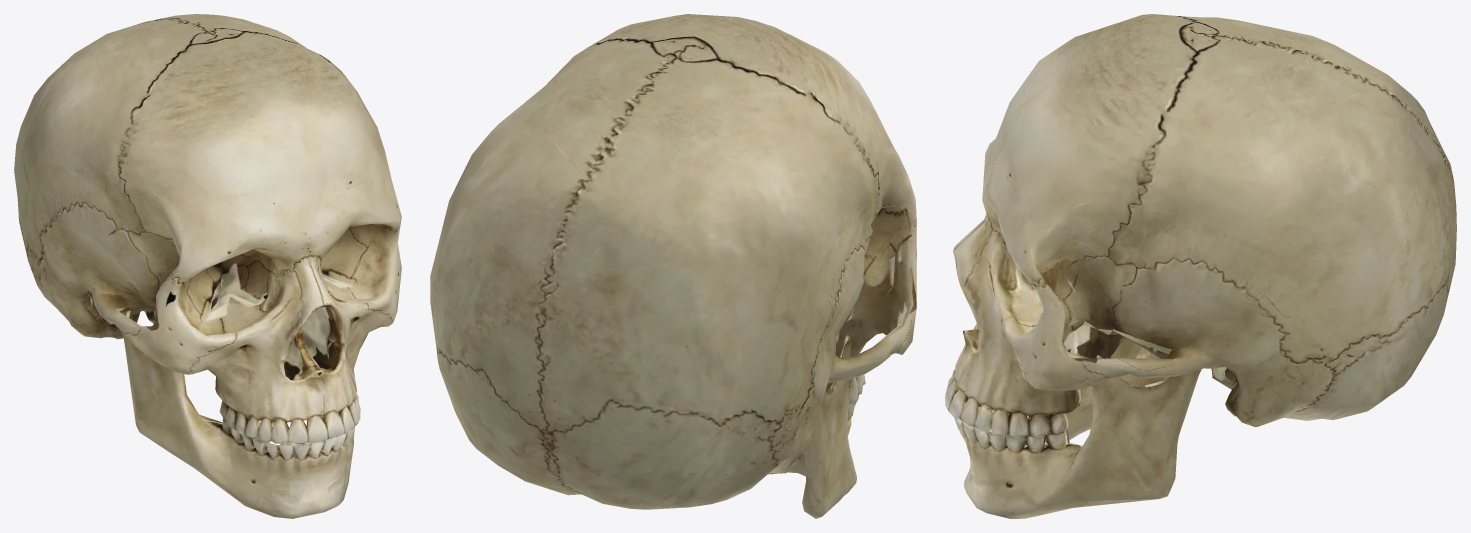
The model's file is skull.glb.
3 views of the same model, side by side, from view 1: azimuth 30°, elevation 25°; view 2: azimuth 150°, elevation 25°; view 3: azimuth 270°, elevation 25° (orthographic). The views are drawn at different scales.
Visible parts, largest first — view 1: Mesh1.0; view 2: Mesh1.0; view 3: Mesh1.0.
Boxes of the visible parts, left/top/right/bottom form: Mesh1.0: left=14, top=14, right=401, bottom=518; Mesh1.0: left=430, top=14, right=916, bottom=518; Mesh1.0: left=945, top=14, right=1456, bottom=518.
Size of the model in its own units: 1.37 by 1.91 by 1.88.
1 material, 1 textured.
